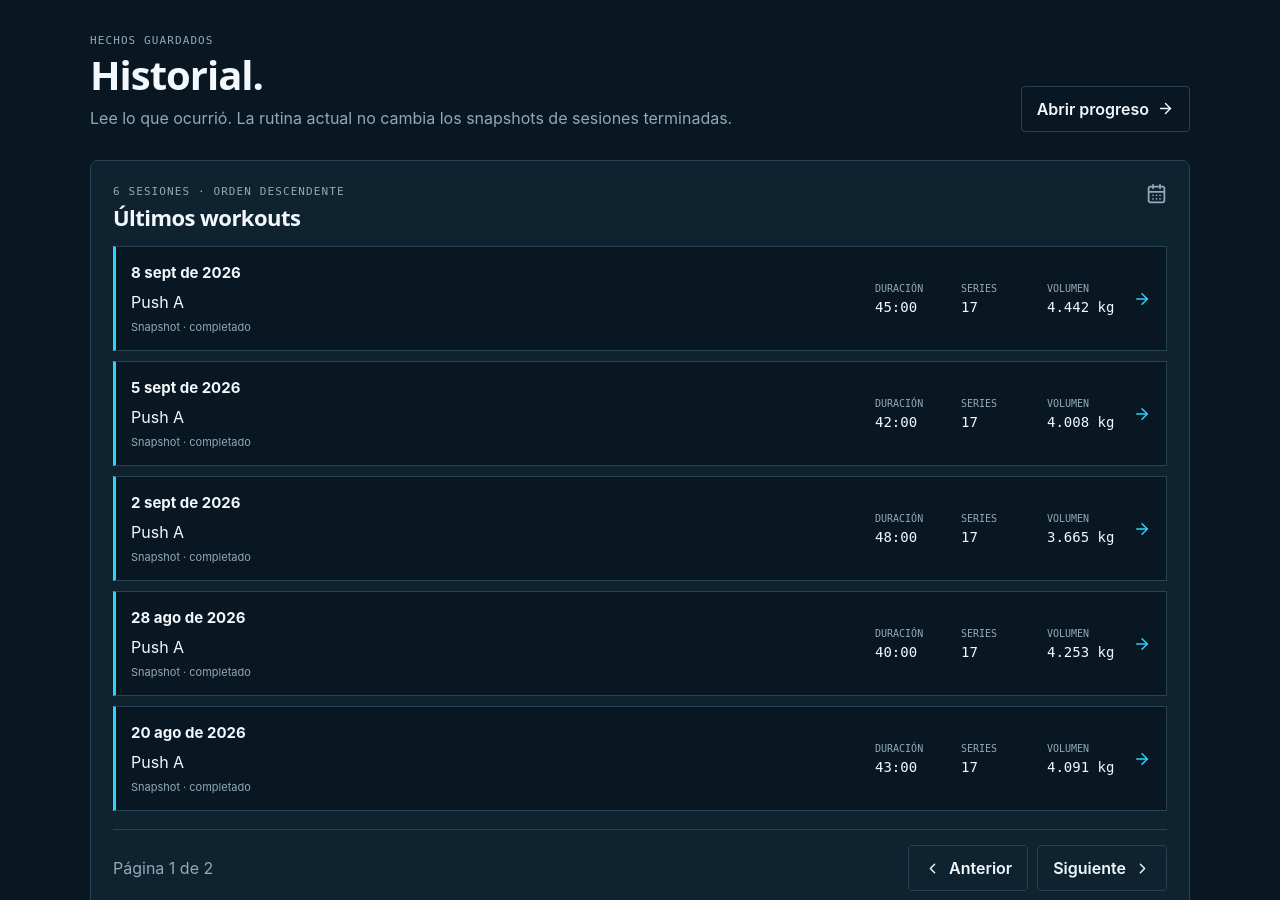
Test: historial mock › muestra sesiones descendentes y pagina cinco elementos
Expected: the heading "Historial." is shown, [90, 47, 263, 102]
Expected: the text "Página 1 de 2" is shown, [113, 856, 213, 880]
Step 1. Click the button with aria-label "Página siguiente" → (1102, 868), box [1037, 845, 1167, 891]
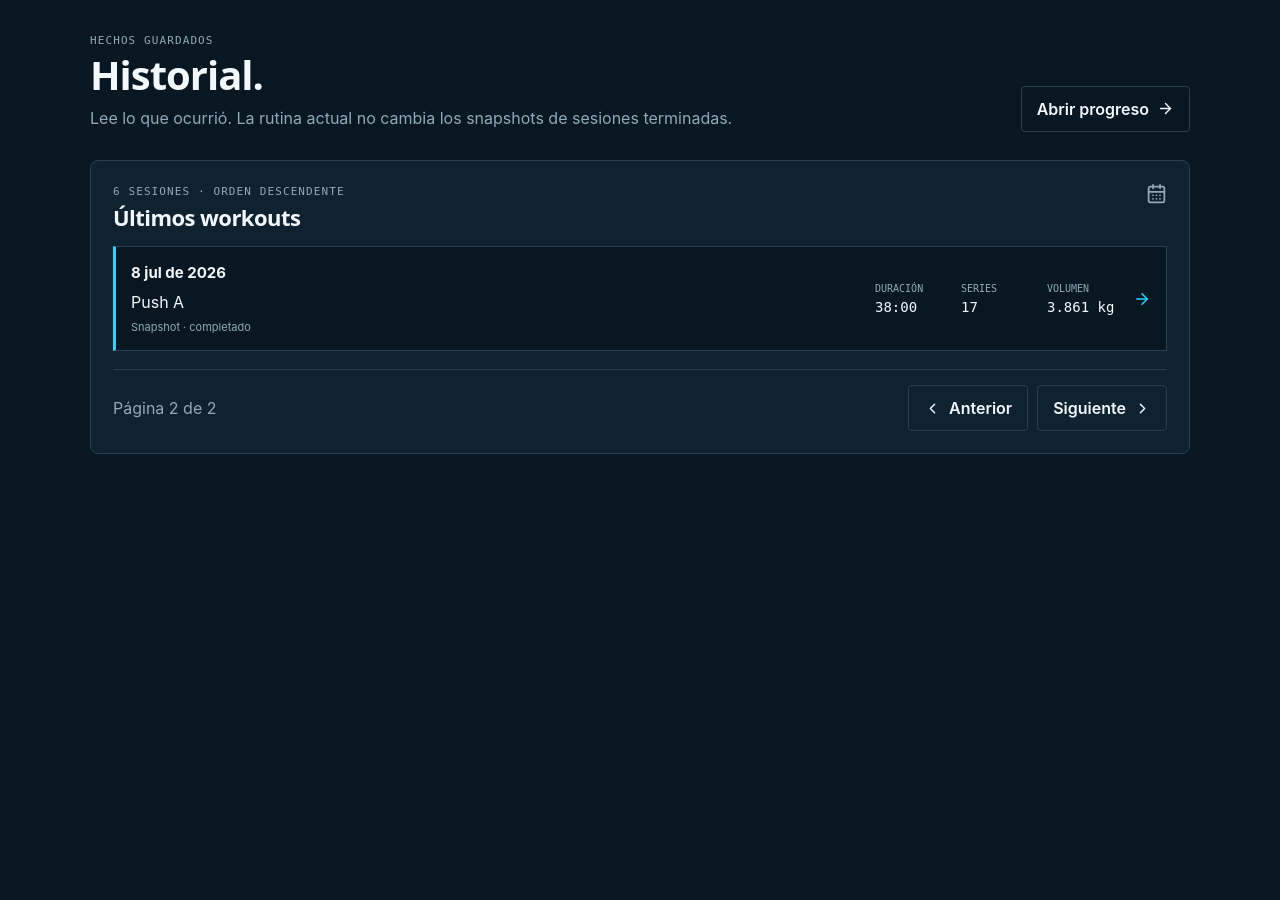
Result: the text "Página 2 de 2" is shown at [113, 396, 216, 420]
Result: the number of links "Push A" is 1 at [113, 246, 1167, 351]
